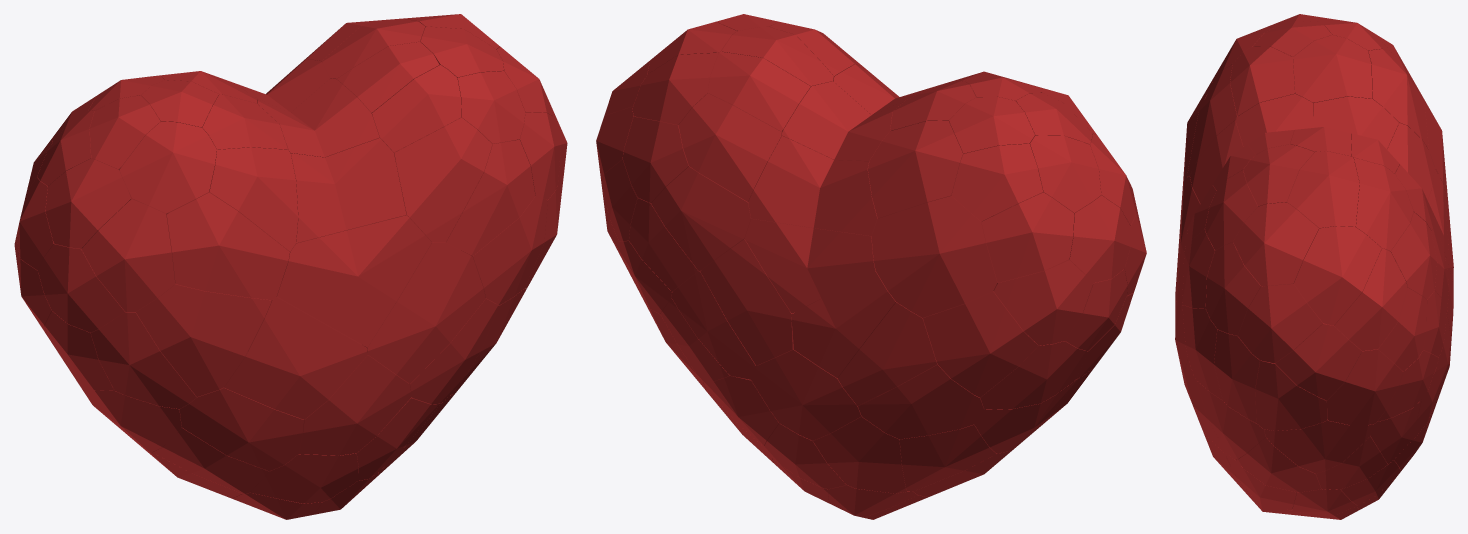
The model's file is heartBOOMactually.glb.
3 renders of one model, left to right at view 1: azimuth 30°, elevation 25°; view 2: azimuth 150°, elevation 25°; view 3: azimuth 270°, elevation 25°, orthographic. The views are drawn at different scales.
Parts seen in each view (by area): view 1: Love_cell.047, Love_cell.082, Love_cell.044, Love_cell.050, Love_cell.075, Love_cell.036, Love_cell.039, Love_cell.033, Love_cell.062, Love_cell.035, Love_cell.032, Love_cell.061 (+35 smaller); view 2: Love_cell.009, Love_cell.074, Love_cell.006, Love_cell.027, Love_cell.052, Love_cell.069, Love_cell.030, Love_cell.011, Love_cell.008, Love_cell.021, Love_cell.054, Love_cell.007 (+38 smaller); view 3: Love_cell.077, Love_cell.064, Love_cell.076, Love_cell.038, Love_cell.048, Love_cell.010, Love_cell.016, Love_cell.087, Love_cell.070, Love_cell.013, Love_cell.051, Love_cell.034 (+44 smaller).
Part boxes in pixels (x1,y1,x2,y2): Love_cell.047: [276, 215, 431, 347]; Love_cell.082: [224, 296, 367, 419]; Love_cell.044: [166, 192, 289, 300]; Love_cell.050: [136, 284, 271, 396]; Love_cell.075: [364, 242, 485, 383]; Love_cell.036: [290, 138, 406, 243]; Love_cell.039: [394, 117, 492, 242]; Love_cell.033: [81, 199, 175, 311]; Love_cell.062: [179, 387, 303, 471]; Love_cell.035: [299, 355, 411, 455]; Love_cell.032: [119, 121, 216, 213]; Love_cell.061: [209, 147, 298, 251]; Love_cell.009: [871, 196, 997, 317]; Love_cell.074: [748, 136, 877, 236]; Love_cell.006: [744, 219, 875, 313]; Love_cell.027: [923, 291, 1038, 397]; Love_cell.052: [868, 120, 963, 218]; Love_cell.069: [678, 93, 781, 201]; Love_cell.030: [700, 239, 794, 365]; Love_cell.011: [791, 271, 895, 377]; Love_cell.008: [651, 166, 751, 270]; Love_cell.021: [751, 349, 861, 440]; Love_cell.054: [981, 192, 1074, 282]; Love_cell.007: [858, 364, 984, 439]; Love_cell.077: [1294, 226, 1381, 325]; Love_cell.064: [1233, 202, 1318, 286]; Love_cell.076: [1238, 283, 1322, 363]; Love_cell.038: [1293, 35, 1372, 111]; Love_cell.048: [1287, 151, 1359, 228]; Love_cell.010: [1334, 248, 1407, 350]; Love_cell.016: [1326, 349, 1403, 425]; Love_cell.087: [1275, 323, 1361, 400]; Love_cell.070: [1353, 157, 1413, 251]; Love_cell.013: [1264, 419, 1373, 473]; Love_cell.051: [1255, 360, 1326, 430]; Love_cell.034: [1205, 242, 1263, 335].
Bounding box in the file's own units: 4.02 × 3.36 × 1.98.
